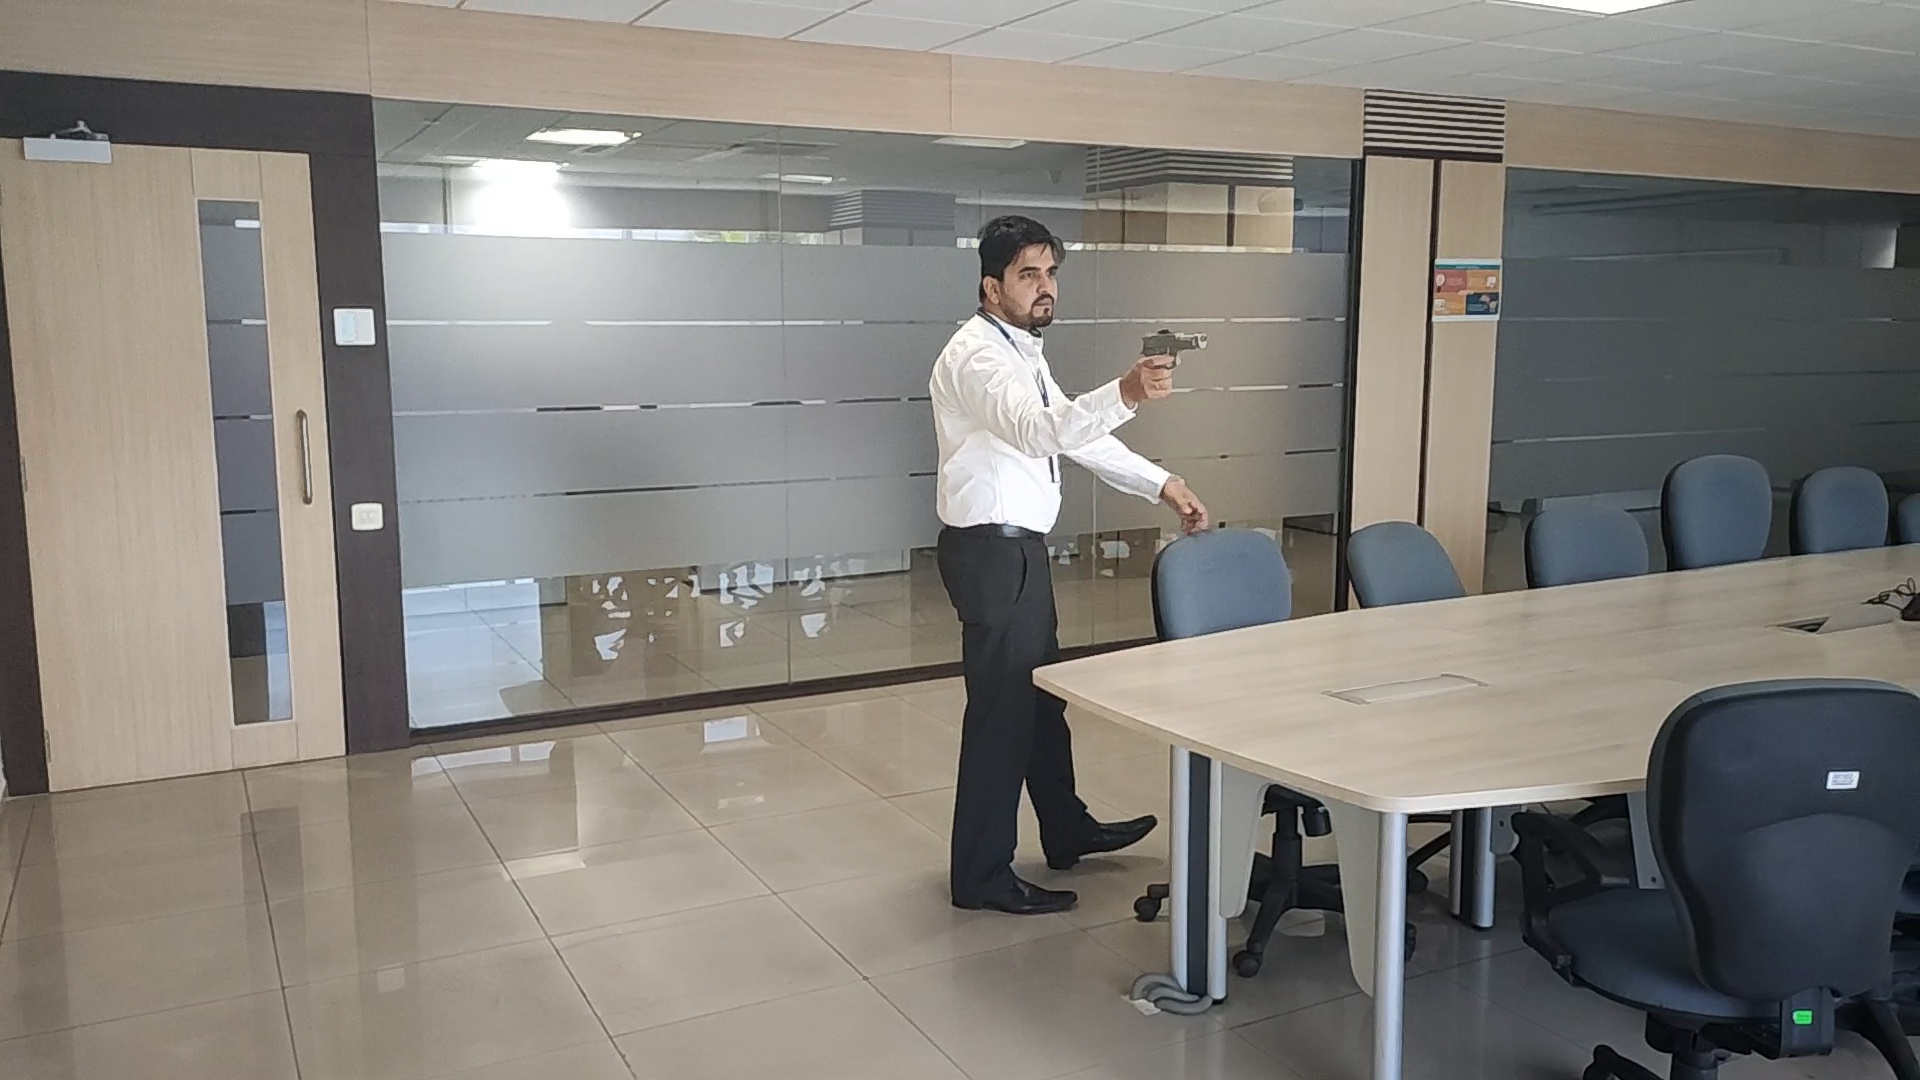gun: (1141, 324, 1209, 371)
